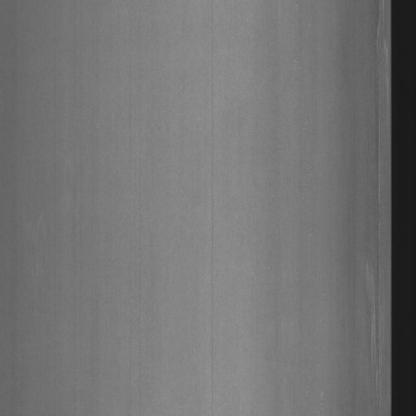silk_spot: (357, 248, 387, 396)
